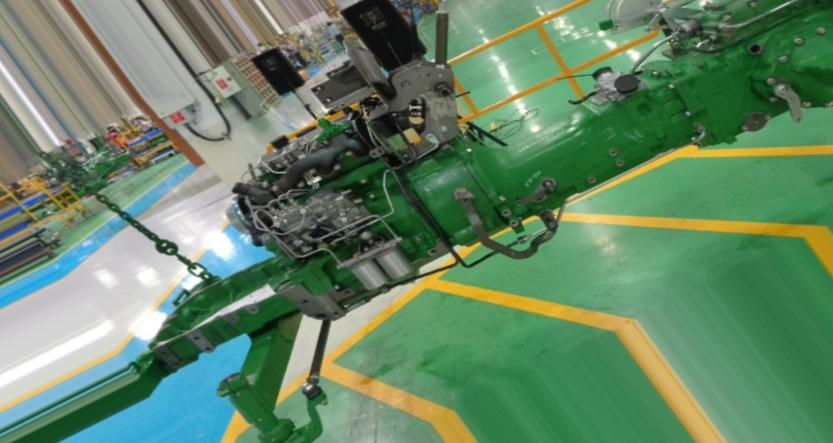engine: (124, 1, 826, 427)
